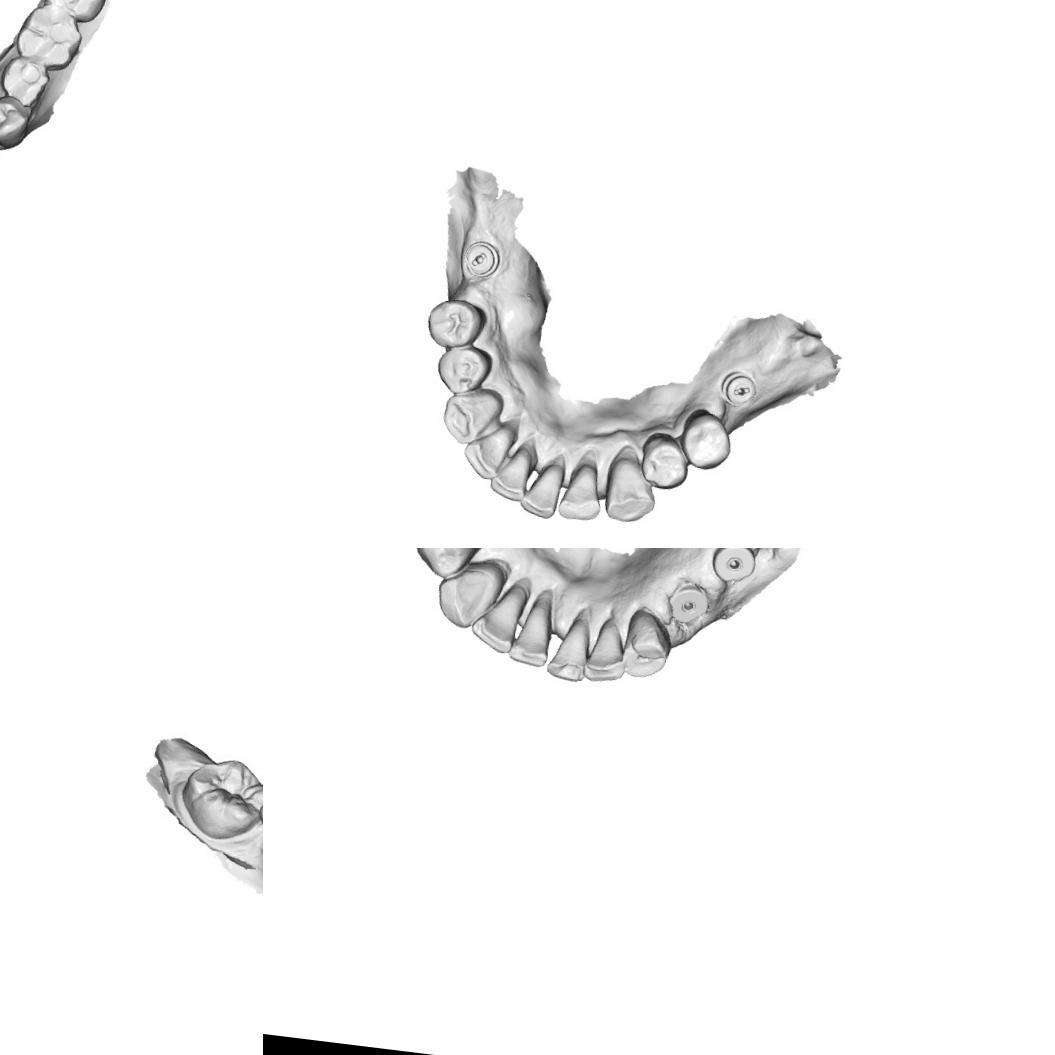canine: (430, 562, 500, 634), (597, 453, 662, 528), (437, 382, 507, 450), (617, 604, 674, 683)
implant: (664, 576, 716, 628), (707, 548, 758, 588)
implant_minus: (459, 235, 504, 282), (720, 366, 762, 410)
incisor: (466, 583, 525, 658), (458, 420, 520, 485), (505, 596, 559, 670), (554, 459, 608, 525), (516, 457, 570, 522), (580, 621, 632, 688), (484, 440, 535, 507), (546, 619, 592, 684)
molar: (179, 754, 263, 845), (10, 0, 86, 75), (36, 0, 111, 26)
premolar: (674, 406, 736, 475), (423, 294, 488, 355), (433, 340, 497, 400), (636, 429, 694, 494), (0, 51, 55, 110), (408, 548, 489, 583), (0, 89, 39, 151)
